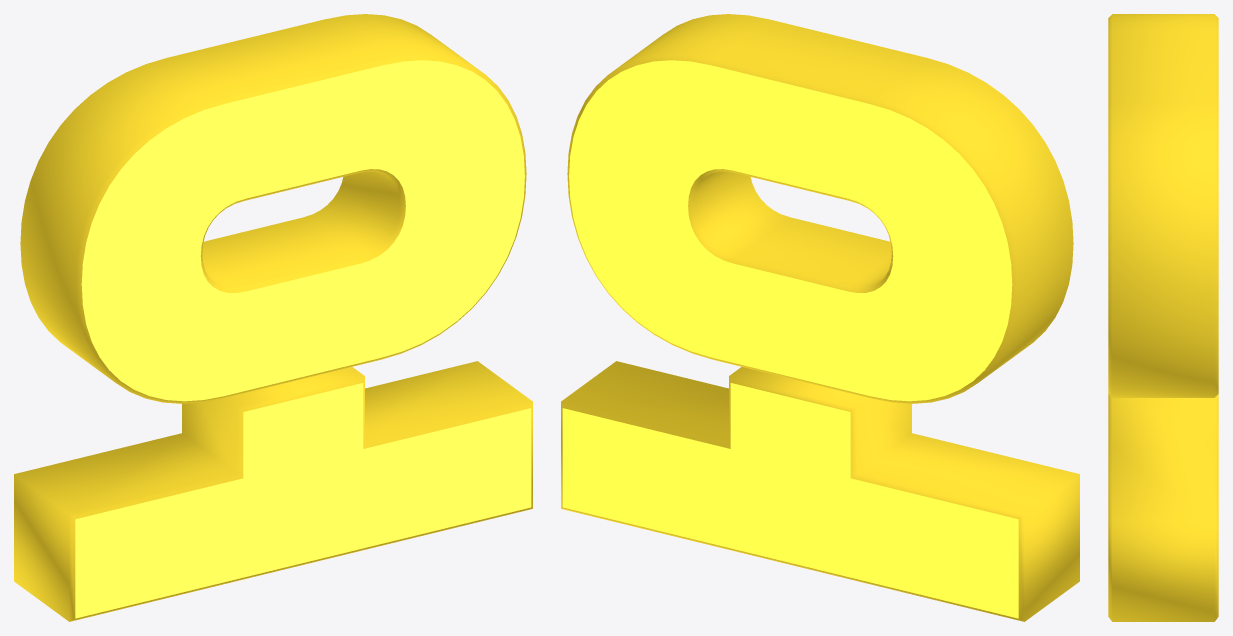
The picture shows the model from 3 angles, left to right: view 1: azimuth 30°, elevation 25°; view 2: azimuth 150°, elevation 25°; view 3: azimuth 270°, elevation 25°; orthographic projection. The views are drawn at different scales.
Visible parts, largest first — view 1: glyph; view 2: glyph; view 3: glyph.
Part boxes in pixels (bbox=[...]): glyph: bbox=[14, 14, 532, 621]; glyph: bbox=[561, 14, 1079, 621]; glyph: bbox=[1108, 14, 1218, 621].
Size of the model in its own units: 0.0726 by 0.0728 by 0.0162.
